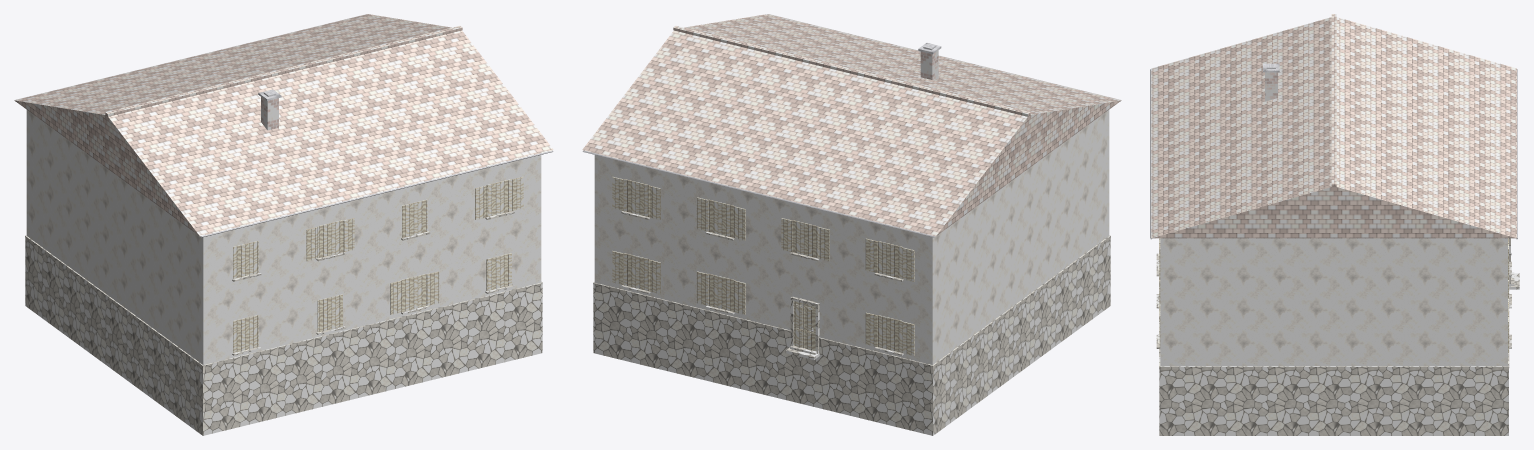
The picture shows the model from 3 angles, left to right: view 1: azimuth 30°, elevation 25°; view 2: azimuth 150°, elevation 25°; view 3: azimuth 270°, elevation 25°; orthographic projection.
Parts seen in each view (by area): view 1: b1084716797; view 2: b1084716797; view 3: b1084716797.
Part boxes in pixels (bbox=[...]): b1084716797: bbox=[14, 14, 553, 435]; b1084716797: bbox=[582, 14, 1121, 435]; b1084716797: bbox=[1150, 14, 1519, 435].
Size of the model in its own units: 15.54 by 11.35 by 14.24.
19 materials, 19 textured.
